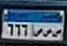6: (15, 23, 21, 36), (7, 23, 13, 36), (22, 24, 28, 36)
saad: (52, 29, 63, 38), (33, 28, 42, 38), (44, 28, 51, 37)
